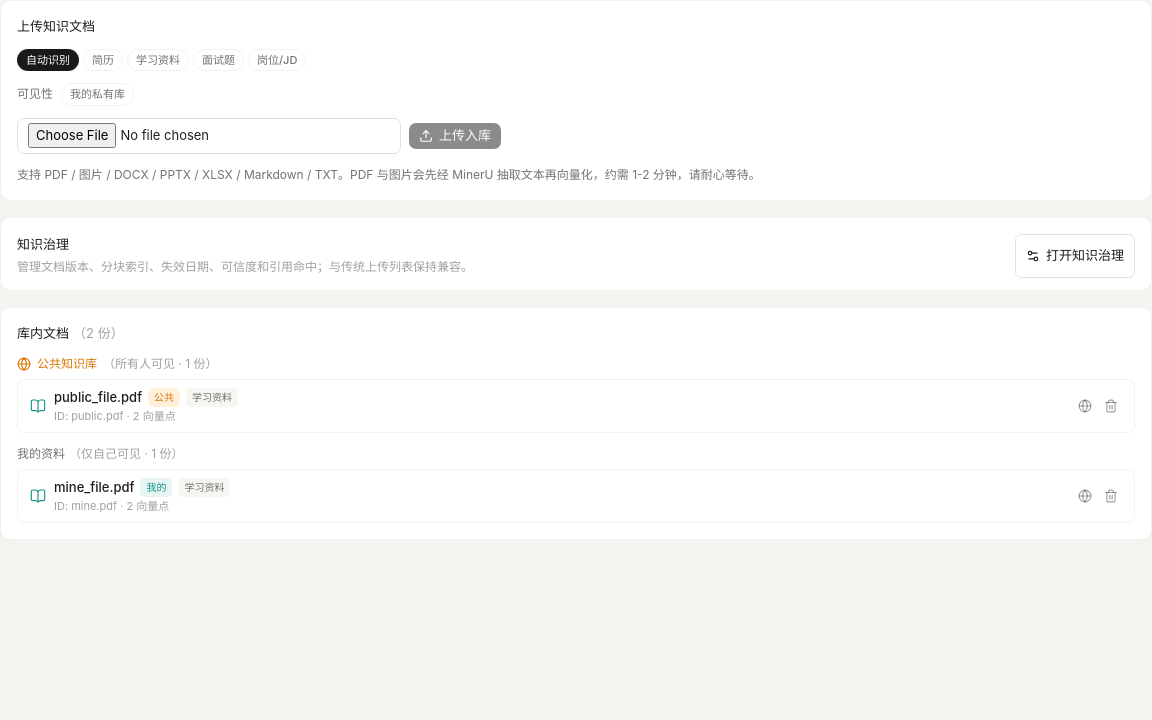
Test case: KnowledgePanel visibility › shows public badge and admin publish controls
Expected: the text "mine_file.pdf" is shown, [54, 478, 134, 498]
Expected: the text "公共" is shown, [148, 388, 180, 407]
Note: 可见性开关默认「我的私有库」，点击切到「发布到公共库」后断言文案出现
Click the button "我的私有库" at {"x": 98, "y": 94}, box [61, 83, 134, 106]
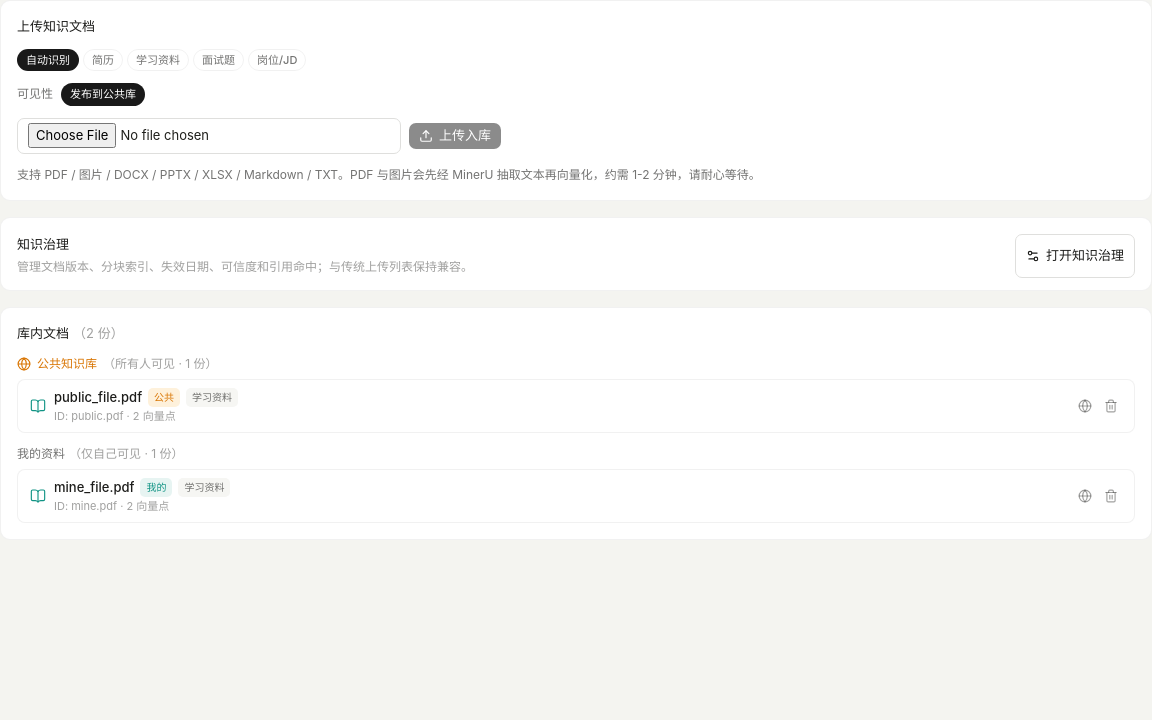
Expected: the button "发布到公共库" is shown, [61, 83, 145, 106]
